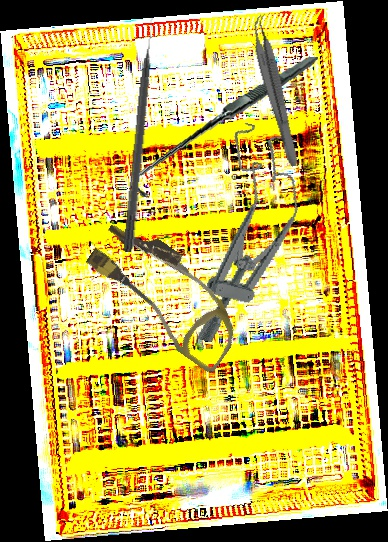Cannula: (73, 212, 259, 375)
Hook Surgical: (132, 39, 318, 214)
Pusher: (122, 16, 160, 253)
Speculum: (181, 120, 316, 356)
Tissue Forceps: (245, 13, 308, 168)
